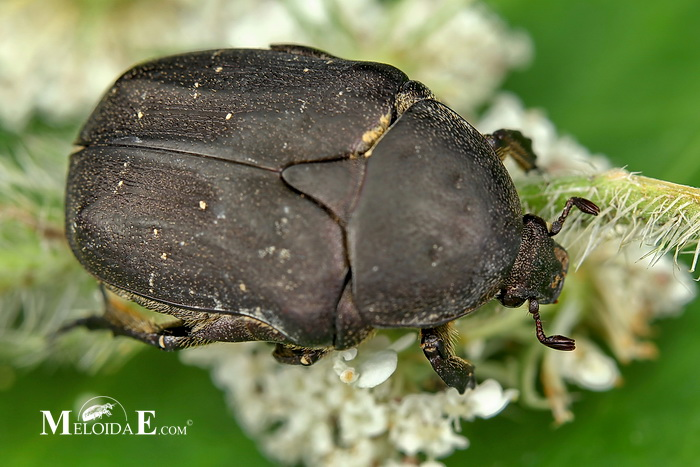Protaetia_morio_morio: (46, 20, 604, 404)
